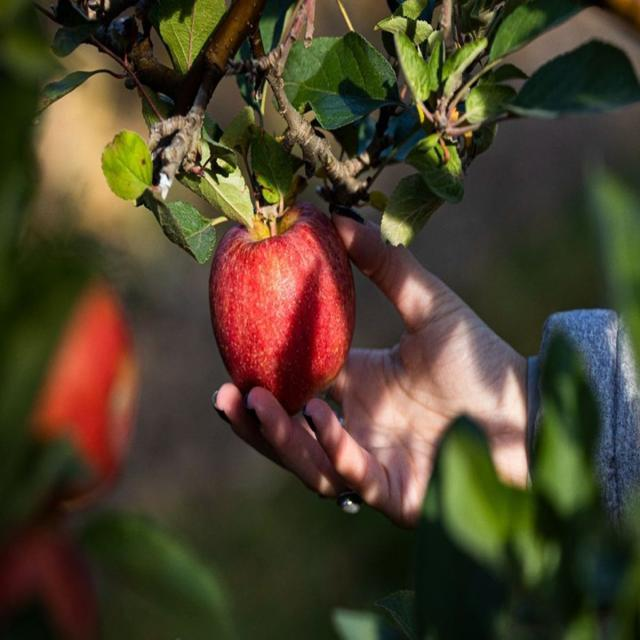manzana: (187, 189, 375, 429)
